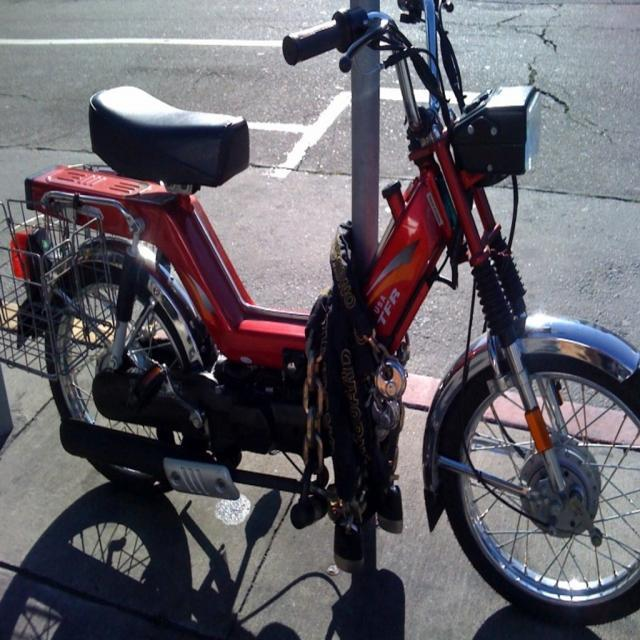bus: (25, 0, 639, 618)
